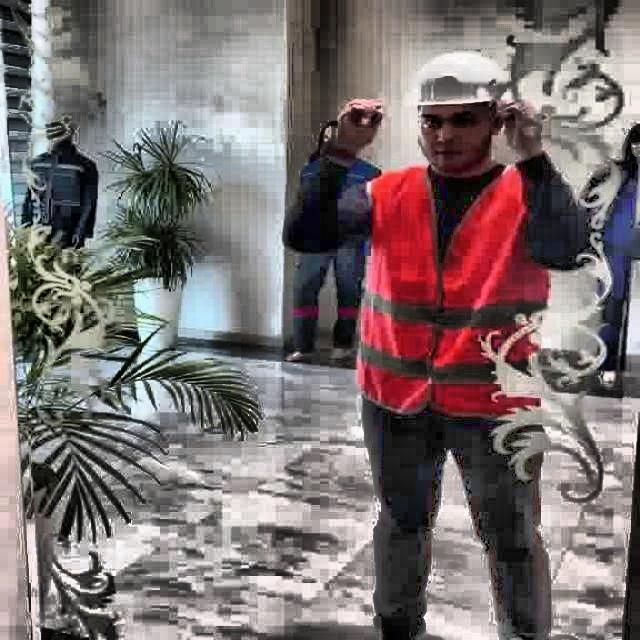safety_jacket: (357, 161, 550, 427)
